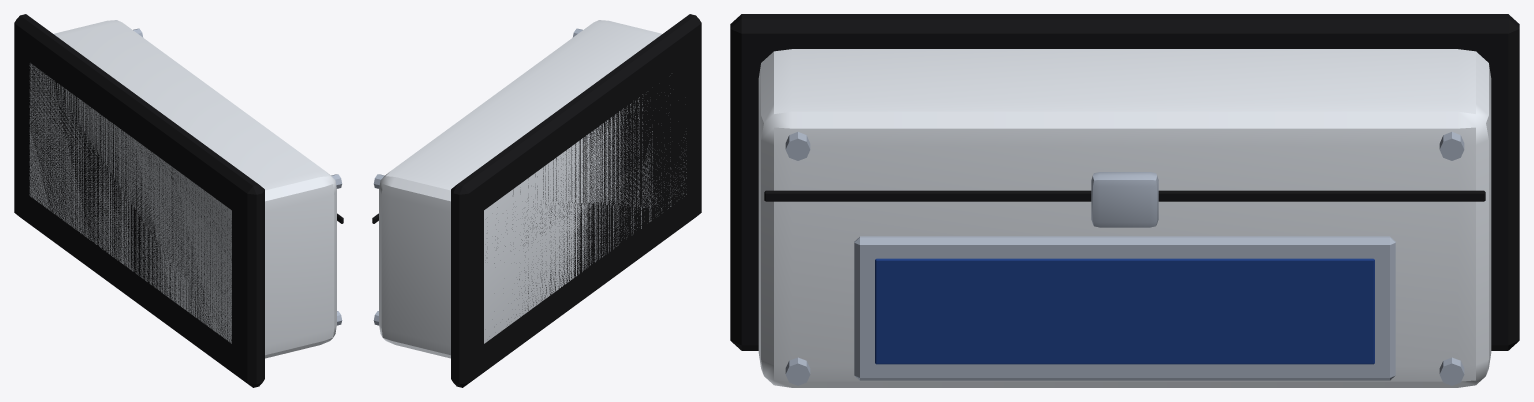
File: side_box_decor.glb
3 views of the same model, side by side, from view 1: azimuth 30°, elevation 25°; view 2: azimuth 150°, elevation 25°; view 3: azimuth 270°, elevation 25° (orthographic). The views are drawn at different scales.
Parts seen in each view (by area): view 1: chrome, plastic_black; view 2: chrome, plastic_black; view 3: chrome, paint_blue, plastic_black, steel.
Part boxes in pixels (x1,y1,x2,y2): chrome: (29,20,336,358); plastic_black: (14,14,343,387); chrome: (379,20,686,358); plastic_black: (372,14,701,387); chrome: (758,49,1491,387); paint_blue: (875,258,1374,364); plastic_black: (730,14,1519,350); steel: (785,132,1464,385).
Bounding box in the file's own units: 0.38 × 0.65 × 1.4.
